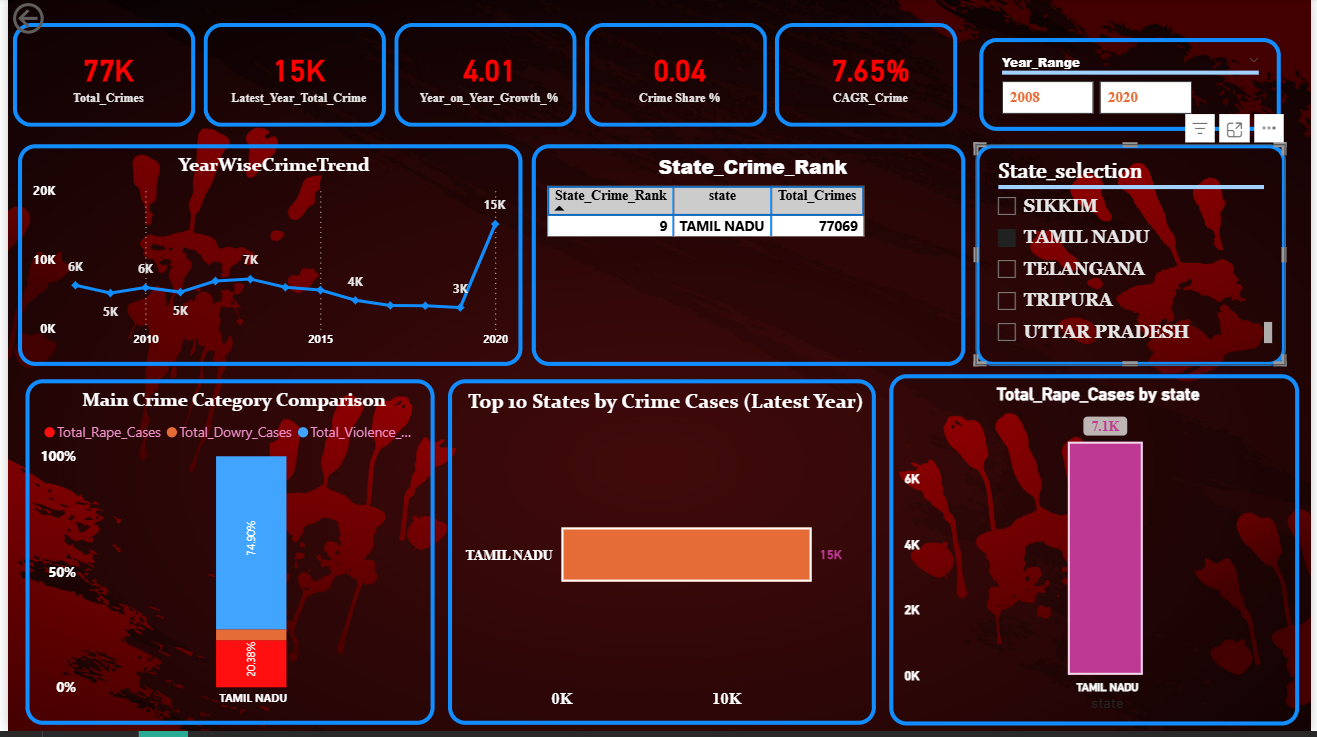

This screenshot's page, from the dashboard's own definition file:
{"tool":"powerbi","page":{"name":"Page 1","canvas":[1280,720],"ordinal":0},"visuals":[{"type":"cardVisual","fields":{"Data":["All_Measures.Total_Crimes","All_Measures.Latest_Year_Total_Crime","All_Measures.Year-on-Year Growth %","All_Measures.Crime Share %","All_Measures.CAGR_Crime"]},"box":[0,19.6,939.9,112.9],"z":0},{"type":"lineChart","title":"YearWiseCrimeTrend","fields":{"Category":["Women_Crime_Data.year"],"Y":["All_Measures.Total_Crimes"]},"box":[9.9,143.2,495.1,217.3],"z":1000},{"type":"clusteredBarChart","title":"Top 10 States by Crime Cases (Latest Year)","fields":{"Category":["Women_Crime_Data.state"],"Y":["All_Measures.Latest_Year_Total_Crime"]},"box":[432.1,374.1,419.8,339.5],"z":2000},{"type":"tableEx","title":"State_Crime_Rank","fields":{"Values":["All_Measures.State_Crime_Rank","Women_Crime_Data.state","All_Measures.Total_Crimes"]},"box":[513.6,143.2,425.9,217.3],"z":3000},{"type":"actionButton","box":[0,0,100,40],"z":4000},{"type":"hundredPercentStackedColumnChart","title":" Main Crime Category Comparison","fields":{"Category":["Women_Crime_Data.state"],"Y":["All_Measures.Total_Rape_Cases","All_Measures.Total_Dowry_Cases","All_Measures.Total_Violence_Cases"]},"box":[17.3,374.1,401.2,339.5],"z":5000},{"type":"lineClusteredColumnComboChart","fields":{"Category":["Women_Crime_Data.state"],"Y":["All_Measures.Total_Rape_Cases"]},"box":[865.4,369.1,402.5,344.4],"z":6000},{"type":"slicer","title":"year range","fields":{"Values":["Women_Crime_Data.year"]},"box":[953.1,39.5,296.3,91.4],"z":7000},{"type":"slicer","fields":{"Values":["Women_Crime_Data.state"]},"box":[949.4,143.2,304.9,217.3],"z":8000}]}

Visuals, with their boxes in screenshot pixels (x1, y1, x2, y2), scaled from the page's 1280x720 canvas onto the 1317x737 screenshot:
cardVisual - All_Measures.Total_Crimes x All_Measures.Latest_Year_Total_Crime: <box>0,20,967,136</box>
"YearWiseCrimeTrend" lineChart: <box>10,147,520,369</box>
"Top 10 States by Crime Cases (Latest Year)" clusteredBarChart: <box>445,383,877,730</box>
"State_Crime_Rank" tableEx: <box>528,147,967,369</box>
actionButton: <box>0,0,103,41</box>
" Main Crime Category Comparison" hundredPercentStackedColumnChart: <box>18,383,431,730</box>
lineClusteredColumnComboChart - Women_Crime_Data.state x All_Measures.Total_Rape_Cases: <box>890,378,1305,730</box>
"year range" slicer: <box>981,40,1286,134</box>
slicer - Women_Crime_Data.state: <box>977,147,1291,369</box>
